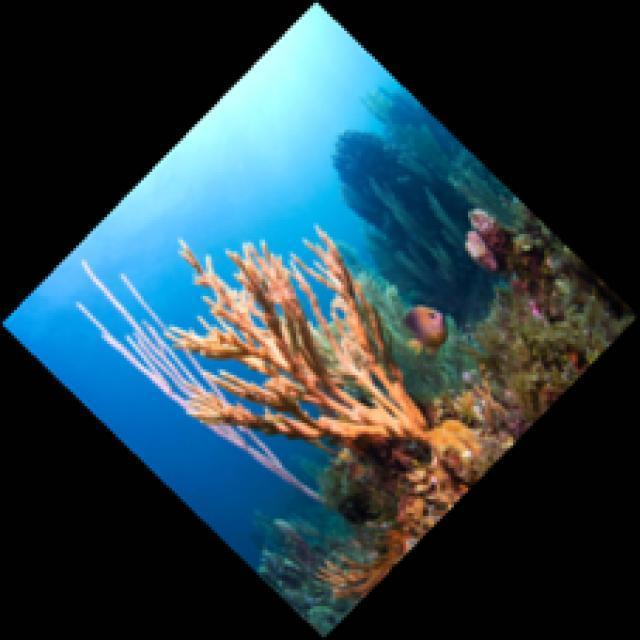Healthy: (75, 256, 327, 508), (170, 237, 441, 463), (314, 415, 536, 600), (464, 206, 565, 329)
